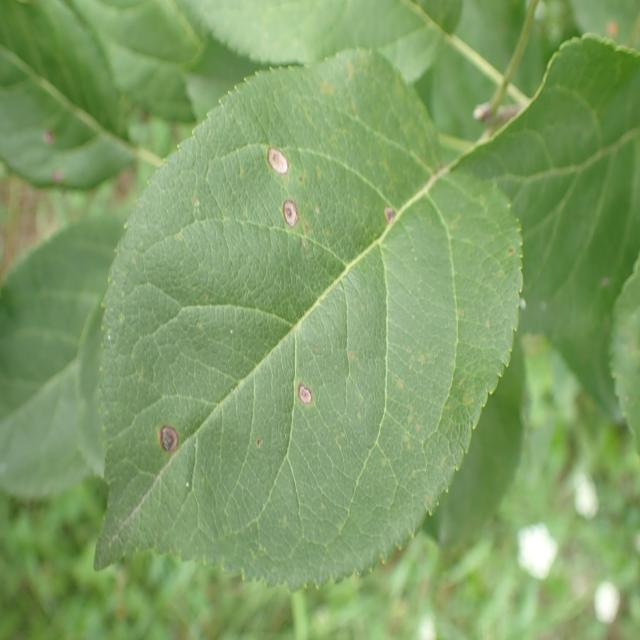Black Rot: (286, 366, 320, 418), (153, 416, 190, 461), (253, 133, 290, 177), (273, 190, 306, 228), (376, 199, 404, 233)
